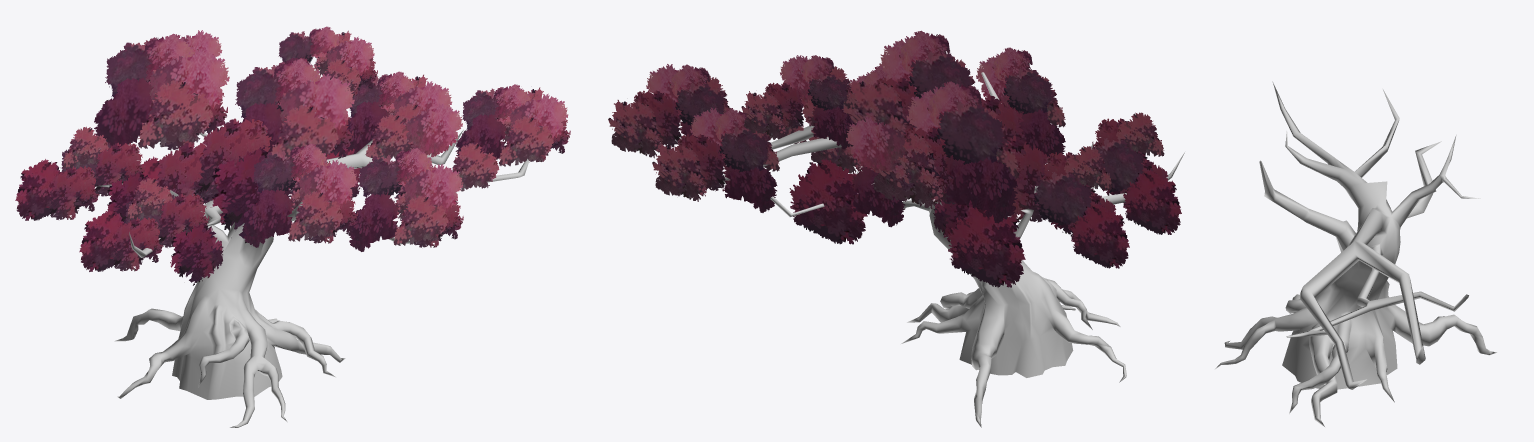
File: sj_xsc_shu02_mesh.fbx
The picture shows the model from 3 angles, left to right: view 1: azimuth 30°, elevation 25°; view 2: azimuth 150°, elevation 25°; view 3: azimuth 270°, elevation 25°; orthographic projection. The views are drawn at different scales.
Parts seen in each view (by area): view 1: sj_xsc_shugan01_mesh, polySurface563, polySurface553, polySurface551, polySurface564, polySurface565, polySurface518, polySurface512, polySurface516, polySurface574, polySurface557, polySurface525 (+42 smaller); view 2: sj_xsc_shugan01_mesh, polySurface573, polySurface572, polySurface564, polySurface562, polySurface566, polySurface504, polySurface524, polySurface575, polySurface528, polySurface542, polySurface535 (+38 smaller); view 3: sj_xsc_shugan01_mesh.
Part boxes in pixels (x1,y1,x2,y2): sj_xsc_shugan01_mesh: (98,130,529,427); polySurface563: (138,80,213,148); polySurface553: (198,118,272,200); polySurface551: (210,147,292,243); polySurface564: (94,78,154,146); polySurface565: (149,48,229,108); polySurface518: (279,73,354,130); polySurface512: (170,222,223,285); polySurface516: (271,105,338,159); polySurface574: (406,103,462,157); polySurface557: (242,188,293,247); polySurface525: (49,166,99,219); sj_xsc_shugan01_mesh: (679,72,1184,427); polySurface573: (947,205,1025,287); polySurface572: (789,158,867,244); polySurface564: (943,154,1017,223); polySurface562: (935,101,1004,164); polySurface566: (873,132,943,209); polySurface504: (1123,170,1181,234); polySurface524: (1071,203,1129,268); polySurface575: (846,116,905,172); polySurface528: (1032,171,1092,226); polySurface542: (652,143,706,201); polySurface535: (608,100,661,158); sj_xsc_shugan01_mesh: (1215,81,1496,426).
Bounding box in the file's own units: 1575 × 897 × 740.
